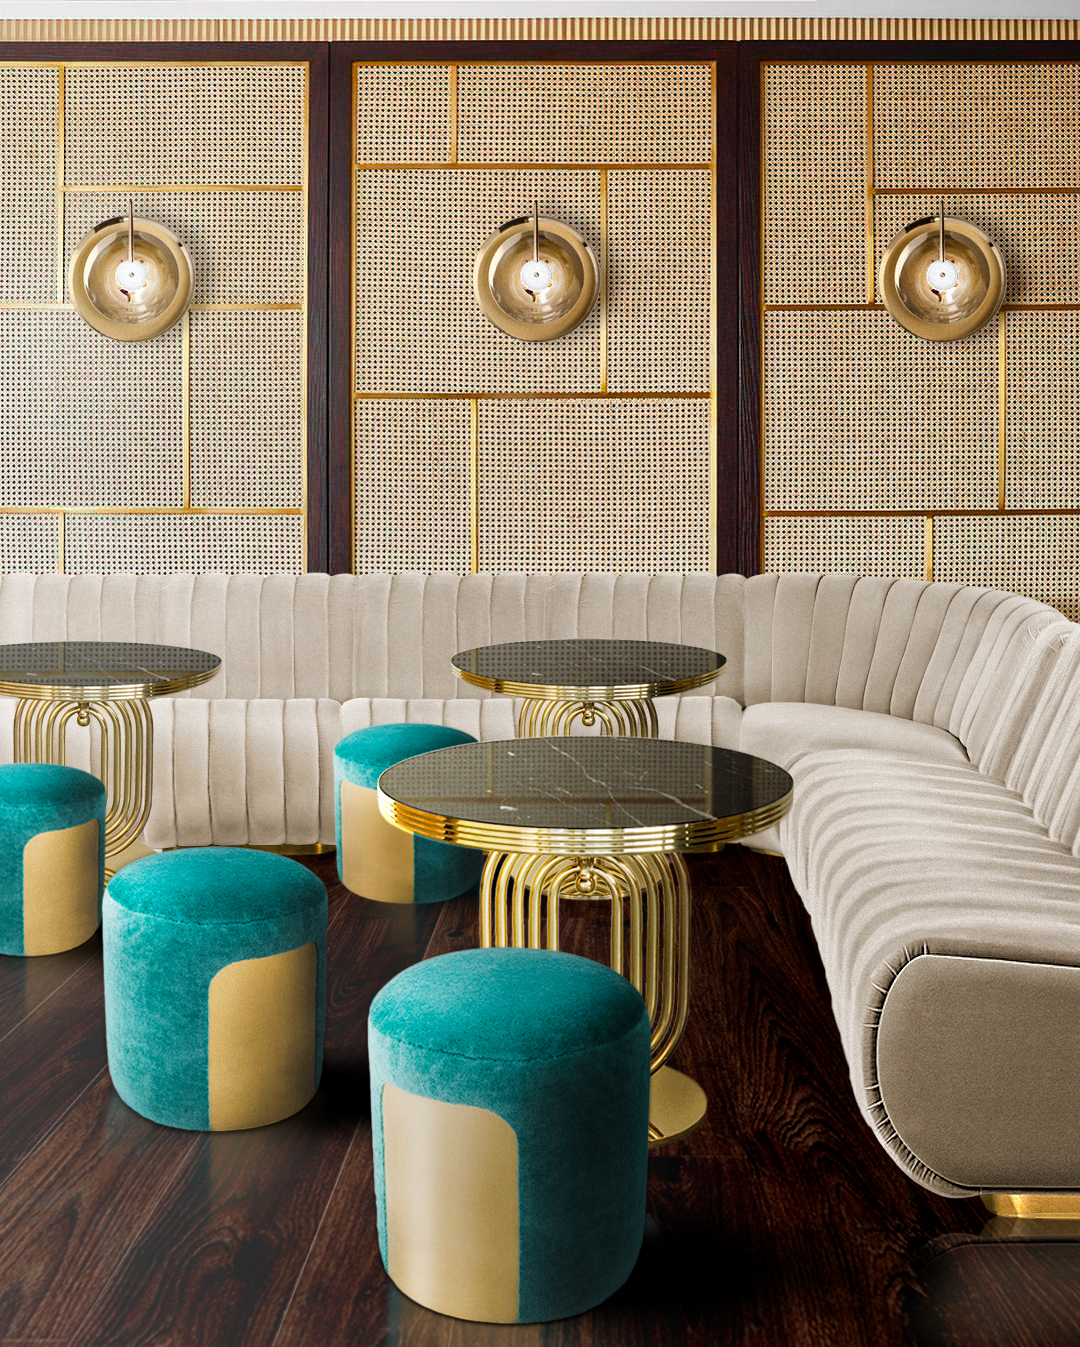biru: (432, 966, 646, 1293), (105, 874, 253, 1103)
kuning: (387, 1085, 529, 1324), (206, 949, 330, 1133), (23, 830, 102, 949)
